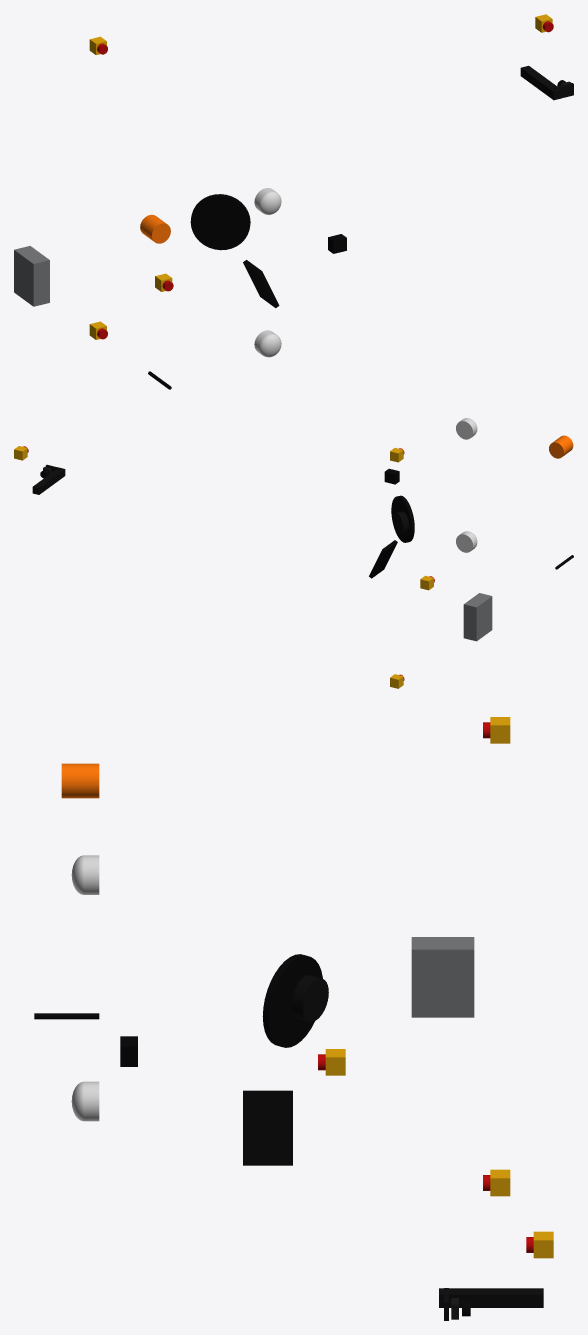
Rendered from kit.obj.
3 views of the same model, one above another, from view 1: azimuth 30°, elevation 25°; view 2: azimuth 150°, elevation 25°; view 3: azimuth 270°, elevation 25° (orthographic). The views are drawn at different scales.
Visible parts, largest first — view 1: mf_6713_kit; view 2: mf_6713_kit; view 3: mf_6713_kit.
Part boxes in pixels (x1,y1,x2,y2): mf_6713_kit: (14, 14, 573, 389); mf_6713_kit: (14, 418, 573, 688); mf_6713_kit: (34, 717, 553, 1320).
Bounding box in the file's own units: 4.09 × 2.08 × 2.08.
